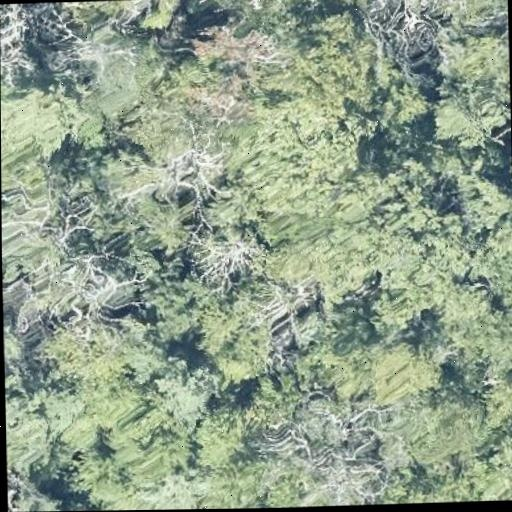tree-top: (232, 87, 358, 213), (1, 186, 130, 309), (144, 77, 243, 192), (261, 204, 374, 302), (369, 207, 474, 311), (318, 327, 447, 408), (37, 311, 175, 385), (33, 239, 140, 333), (379, 388, 497, 472), (58, 26, 159, 124), (1, 72, 86, 185), (37, 385, 157, 464), (428, 41, 509, 151), (191, 287, 276, 384), (434, 298, 512, 385), (300, 9, 371, 102), (192, 0, 312, 51), (142, 269, 210, 346), (370, 0, 462, 55), (147, 361, 218, 432), (448, 159, 512, 232), (382, 0, 507, 37), (5, 383, 53, 476), (191, 398, 252, 471), (444, 439, 512, 501), (192, 221, 258, 282), (49, 0, 177, 29), (0, 2, 47, 74), (8, 473, 69, 512), (3, 306, 30, 364)
